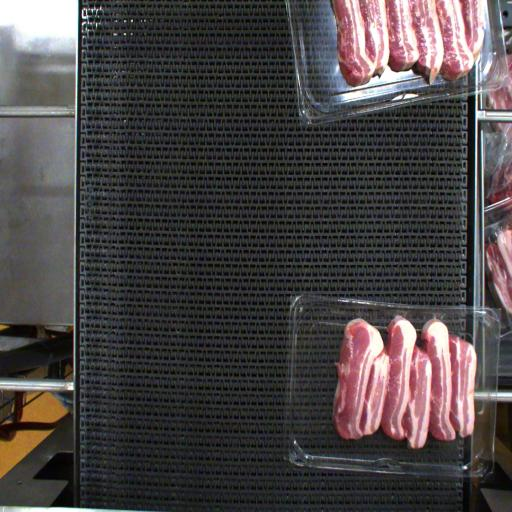packaging-error: (425, 304, 448, 326)
